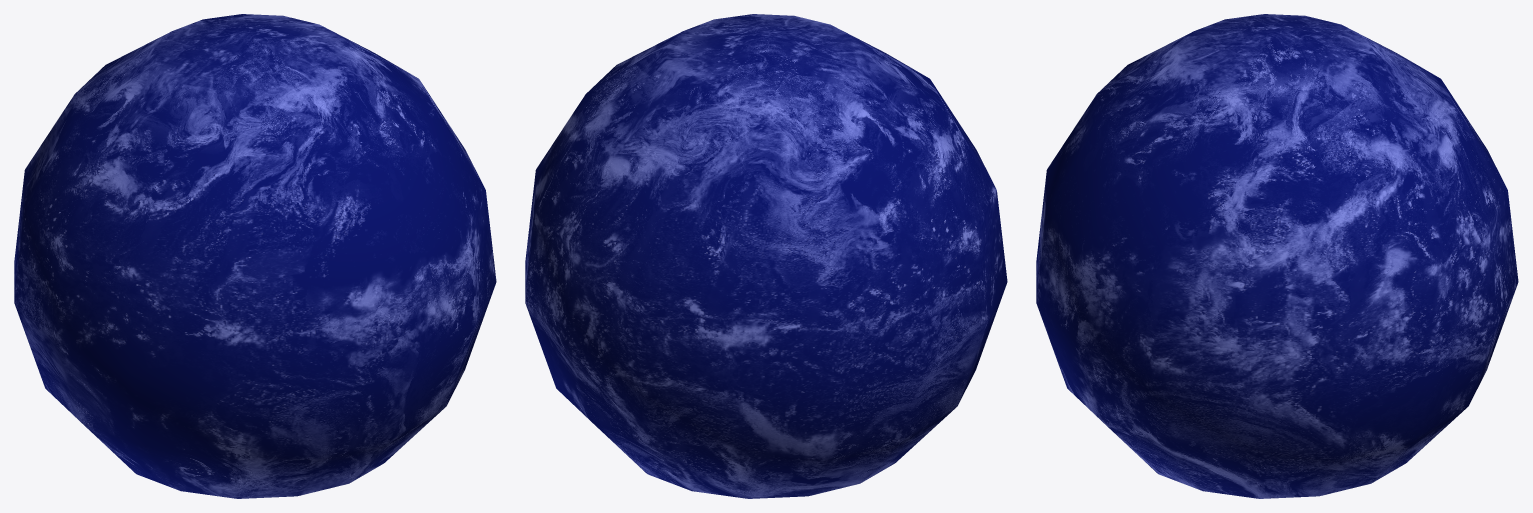
The model's file is Water World.fbx.
3 views of the same model, side by side, from view 1: azimuth 30°, elevation 25°; view 2: azimuth 150°, elevation 25°; view 3: azimuth 270°, elevation 25° (orthographic).
Parts seen in each view (by area): view 1: Sphere001; view 2: Sphere001; view 3: Sphere001.
Boxes of the visible parts, x1,y1,x2,y2 form: Sphere001: (14,14,496,498); Sphere001: (525,14,1007,498); Sphere001: (1036,14,1518,498).
Size of the model in its own units: 0.1082 by 0.1094 by 0.1076.
